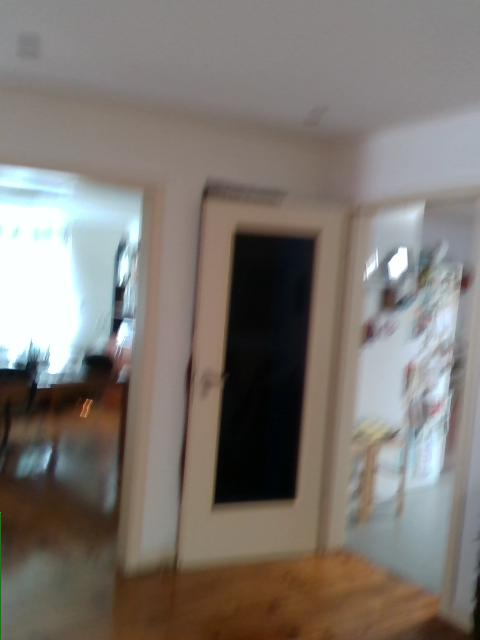door: (175, 196, 341, 571)
